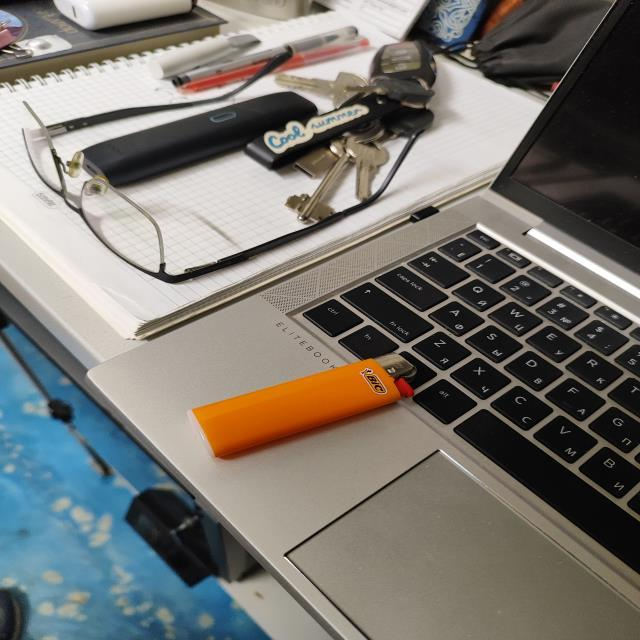lighter: (192, 355, 413, 458)
